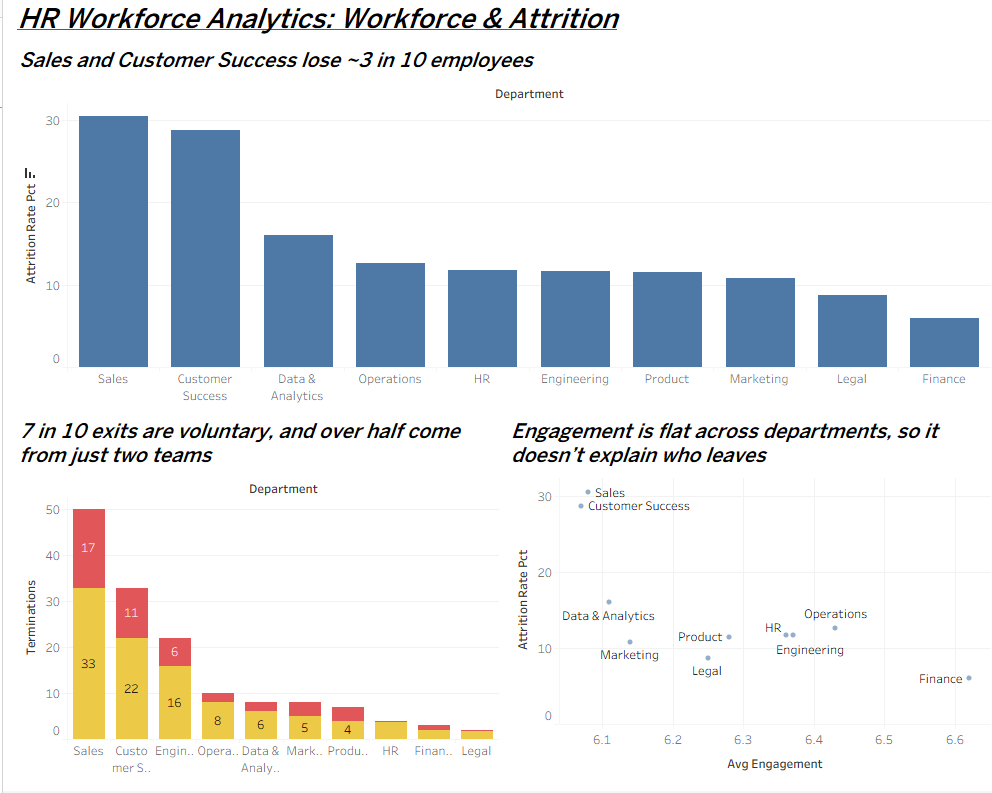

Layout of this report page (visuals, bound fields, positions):
{"tool":"tableau","page":{"name":"Workforce & Attrition","canvas":[1000,800],"ordinal":2},"visuals":[{"type":"title","box":[8,8,984,41]},{"type":"worksheet","title":"Attrition rate by dept","mark":"Automatic","rows":["attrition_rate_pct"],"cols":["department"],"box":[8,49,984,371.5]},{"type":"worksheet","title":"Voluntary vs involuntary","mark":"Automatic","cols":["department"],"box":[8,420.5,492,371.5]},{"type":"worksheet","title":"Engagement vs attrition","mark":"Circle","rows":["attrition_rate_pct"],"cols":["avg_engagement"],"box":[500,420.5,492,371.5]}]}

Visuals, with their boxes in screenshot pixels (x1, y1, x2, y2), scaled from the page's 1000x800 canvas onto the 992x793 screenshot:
title: 8,8,984,49
"Attrition rate by dept" worksheet: 8,49,984,417
"Voluntary vs involuntary" worksheet: 8,417,496,785
"Engagement vs attrition" worksheet (Circle marks): 496,417,984,785
